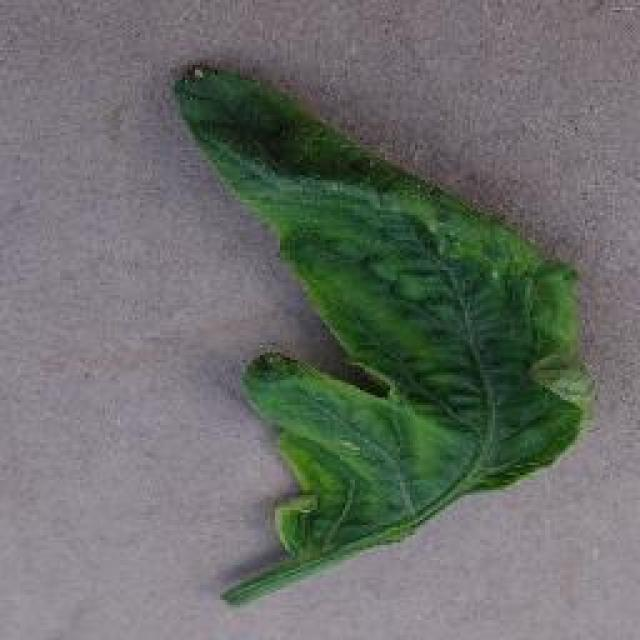Tomato yellow virus leaf: (176, 54, 602, 578)
